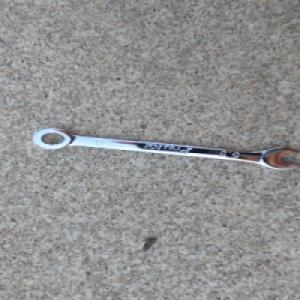Wrench: (31, 127, 300, 171)
